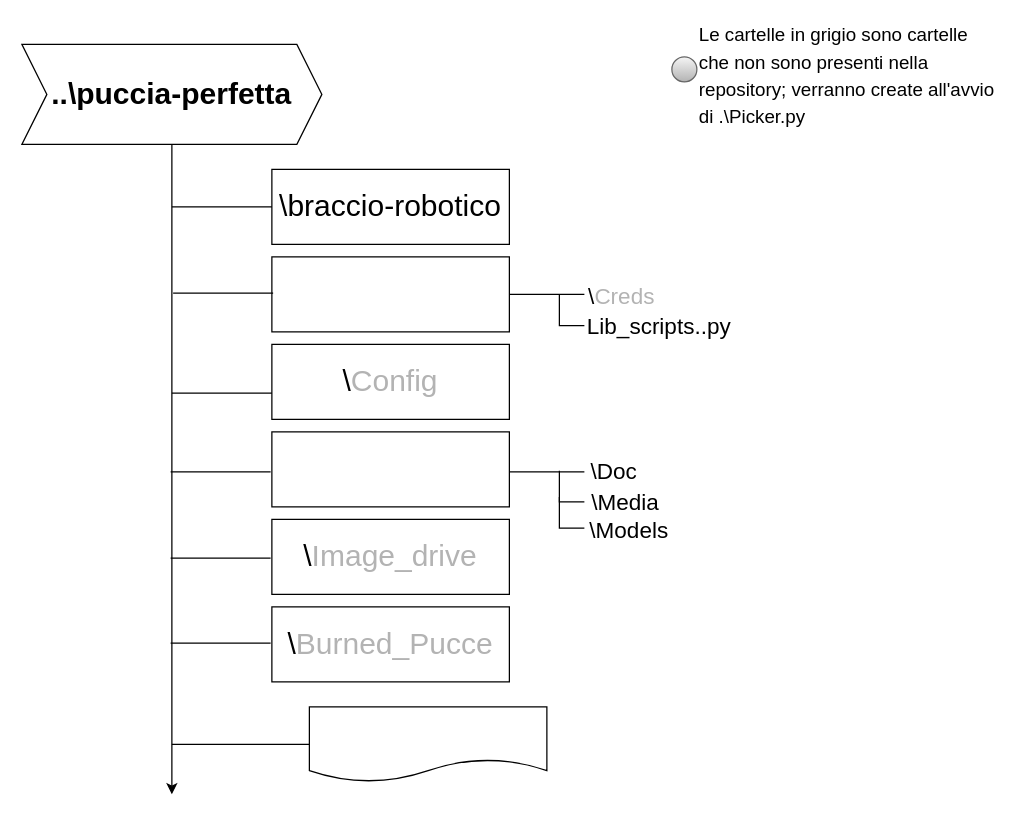
The diagram is 1019 pixels wide and 826 high, and some of its shapes have lost their labels. Here are the shapes that lost their labels. From the top down, the centre of each, then its label:
At (390,294): "\Lib".
At (390,469): "\Resource".
At (427,744): "Main_scripts..py".
